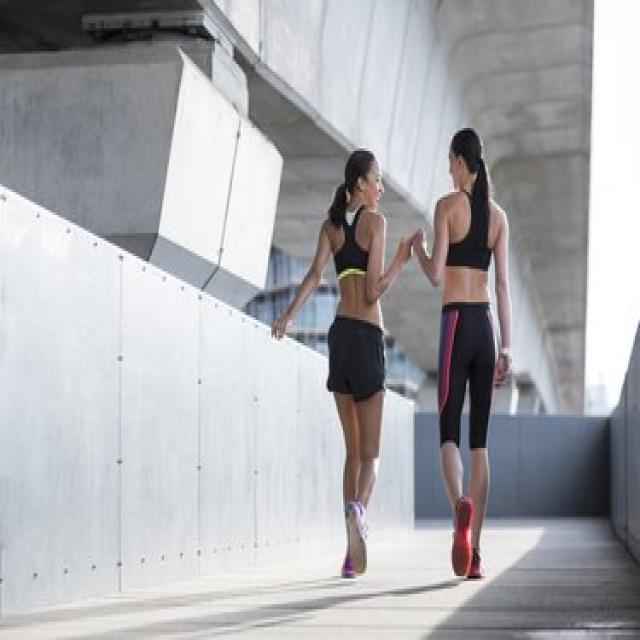Person: (271, 150, 415, 576), (416, 127, 512, 582)
